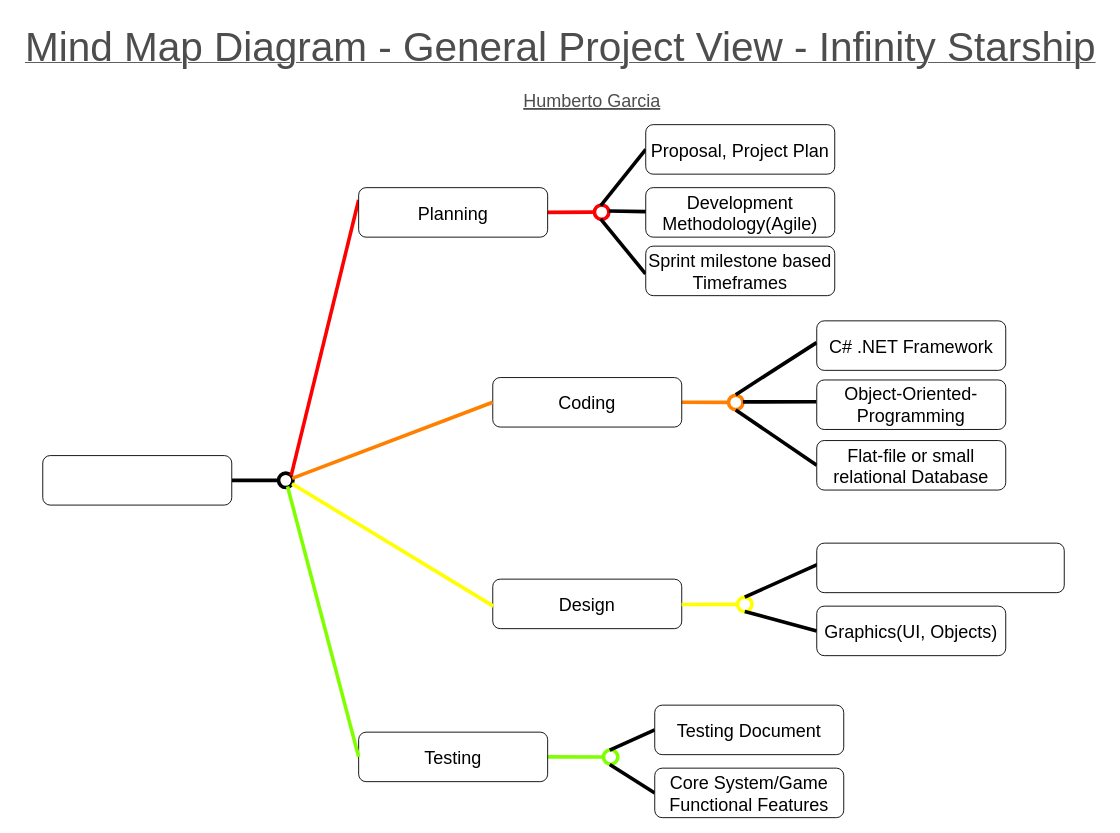
Image size: 1120x833. Some labels were removed from this diagram. Here are the shapes that lost their labels. From the top down, the centre of each, then its label:
At point 137,480: "Infinity Starship".
At point 940,567: "Diagrams(UMLs, MindMap) & Requirements Document".
